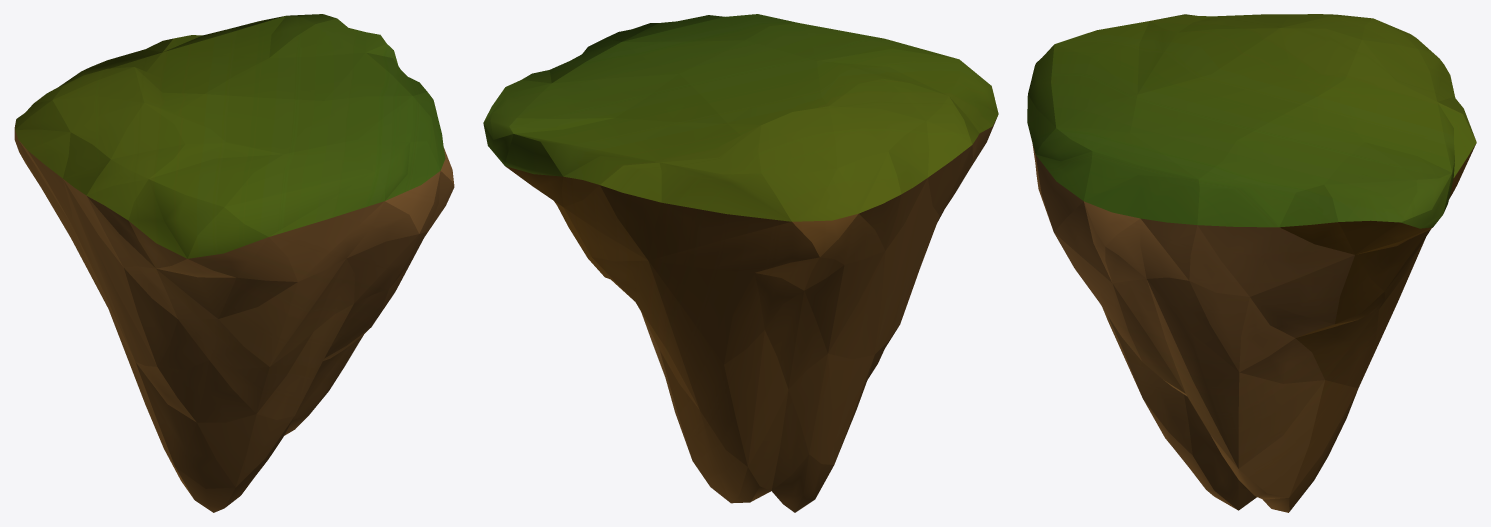
Rendered from 4seasons_floating_rock.FBX.
The picture shows the model from 3 angles, left to right: view 1: azimuth 30°, elevation 25°; view 2: azimuth 150°, elevation 25°; view 3: azimuth 270°, elevation 25°; orthographic projection. The views are drawn at different scales.
Parts seen in each view (by area): view 1: rock_1; view 2: rock_1; view 3: rock_1.
Part boxes in pixels (x1,y1,x2,y2): rock_1: (14, 14, 454, 512); rock_1: (483, 14, 998, 512); rock_1: (1027, 14, 1476, 512).
Bounding box in the file's own units: 3939 × 4188 × 3694.
Materials: 2 (2 with a texture image).
